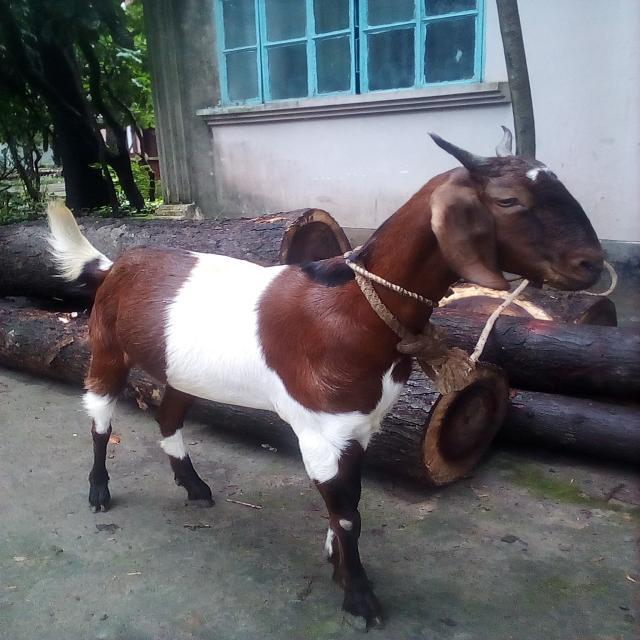Goat: (41, 125, 607, 632)
